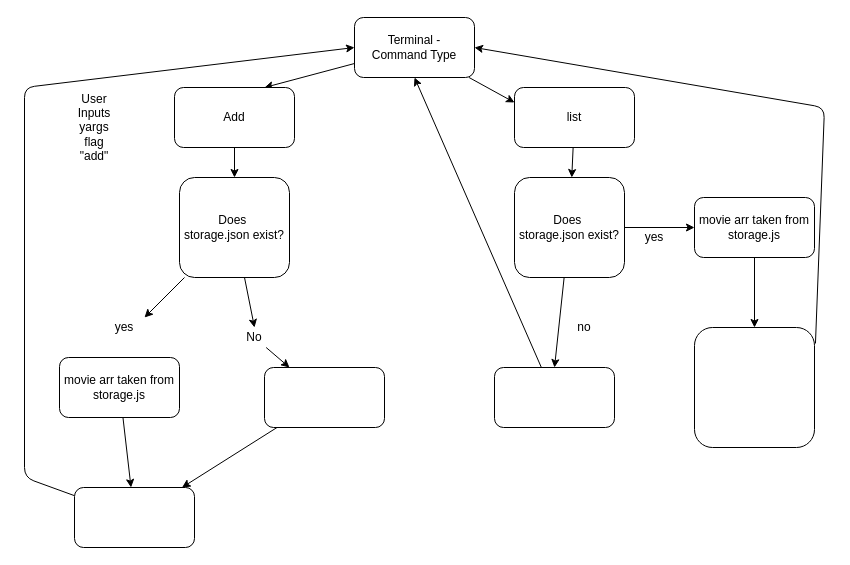
The diagram is 850 pixels wide and 565 high, and some of its shapes have lost their labels. Here are the shapes that lost their labels. From the top down, the centre of each, then its label:
[324,397]: Movie Array set to empty
[554,397]: message "please add some data to the list
[754,387]: run list movies()
[134,517]: addMovie()
